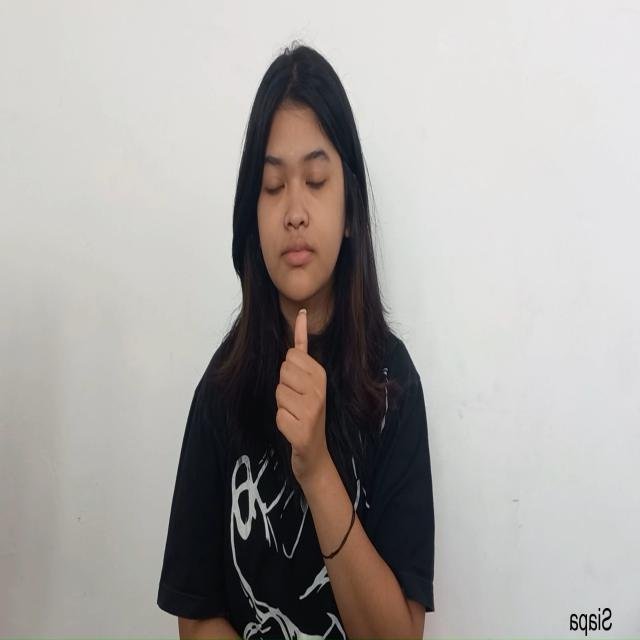Siapa -BISINDO-: (274, 305, 328, 495)
